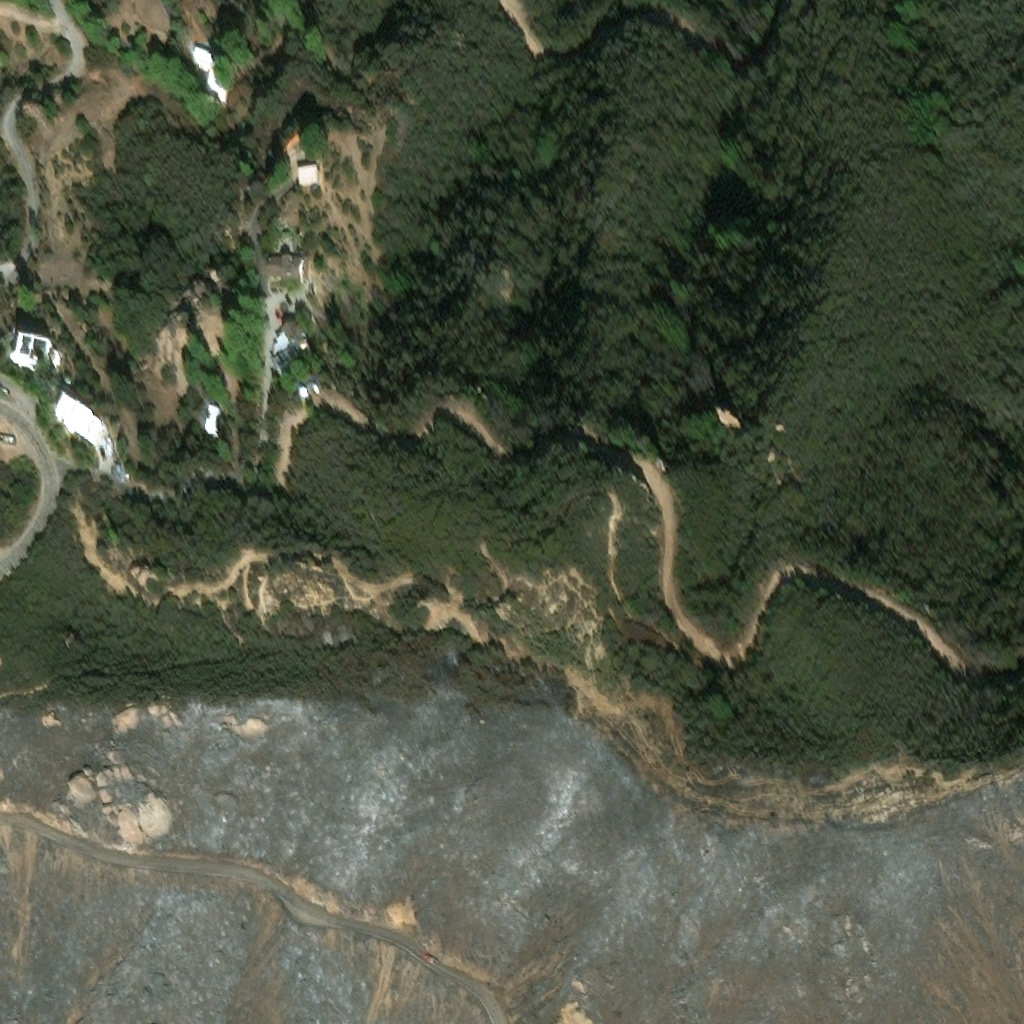0 no-damage: (266, 306, 320, 368), (187, 42, 227, 90), (12, 337, 62, 375), (54, 398, 99, 438), (280, 258, 306, 286), (199, 395, 215, 426), (298, 170, 321, 190), (267, 256, 283, 282), (296, 382, 306, 393), (311, 380, 317, 386)
